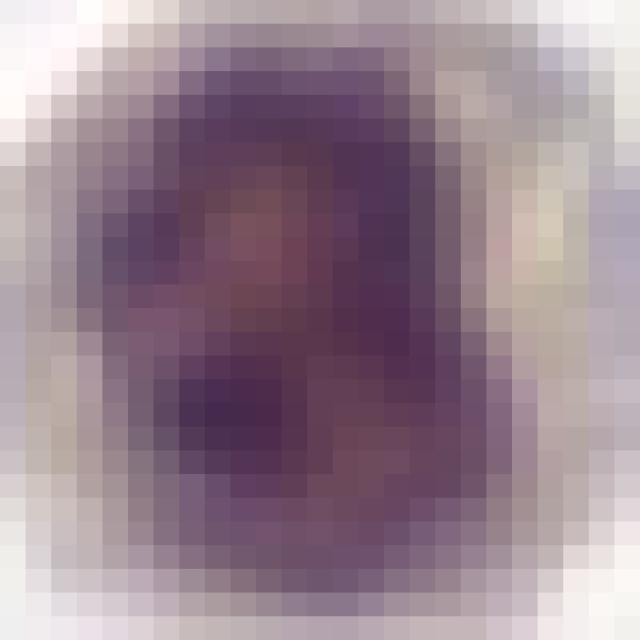cytoplasm: (0, 0, 614, 616)
nucleus: (83, 47, 537, 606)
